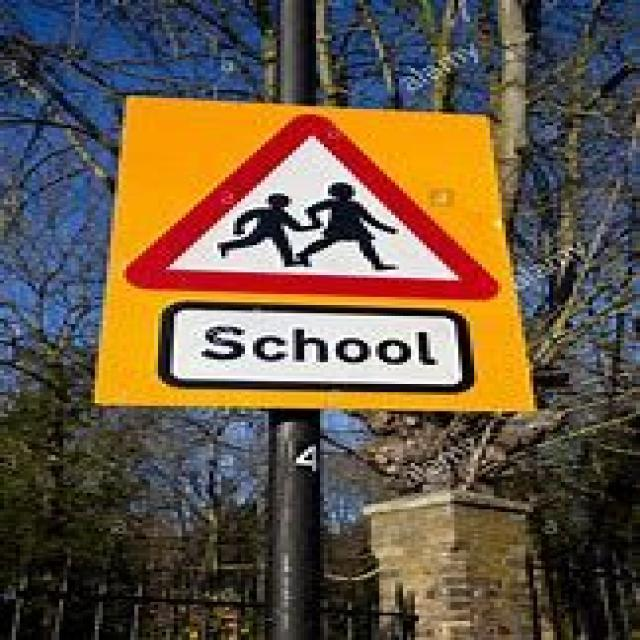school ahead: (128, 109, 503, 304)
